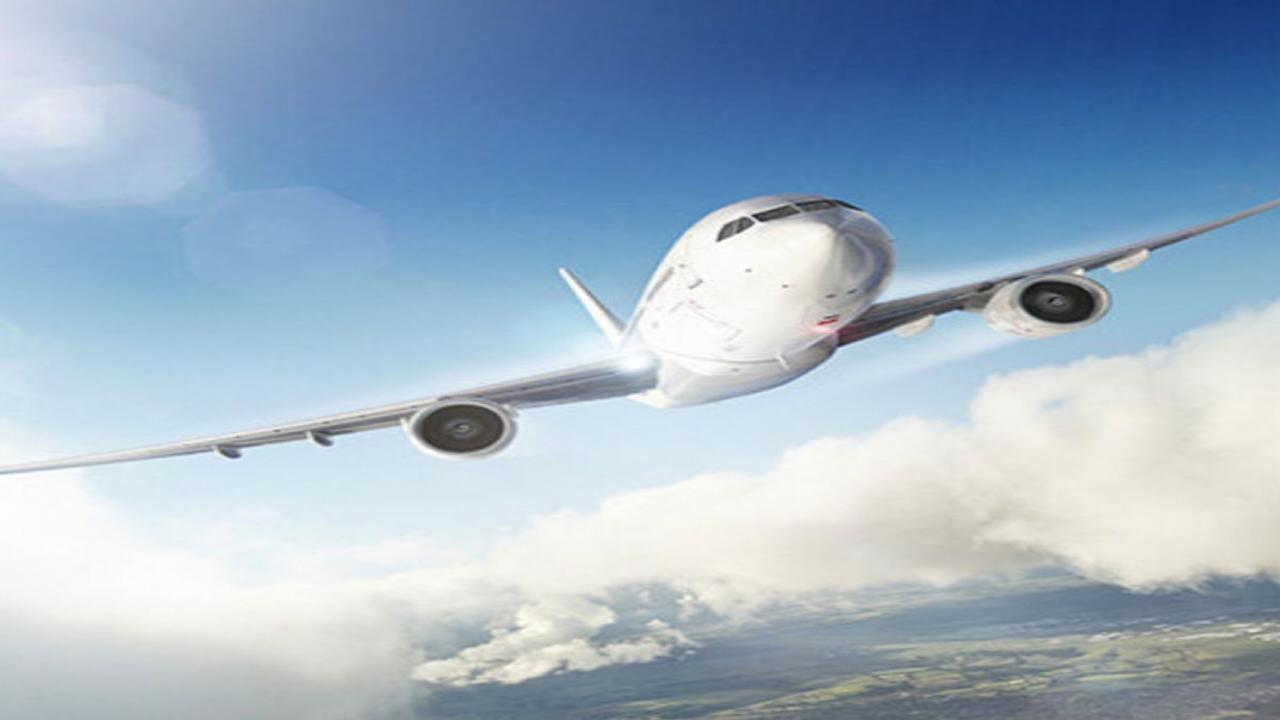Airplane: (0, 174, 1280, 496)
